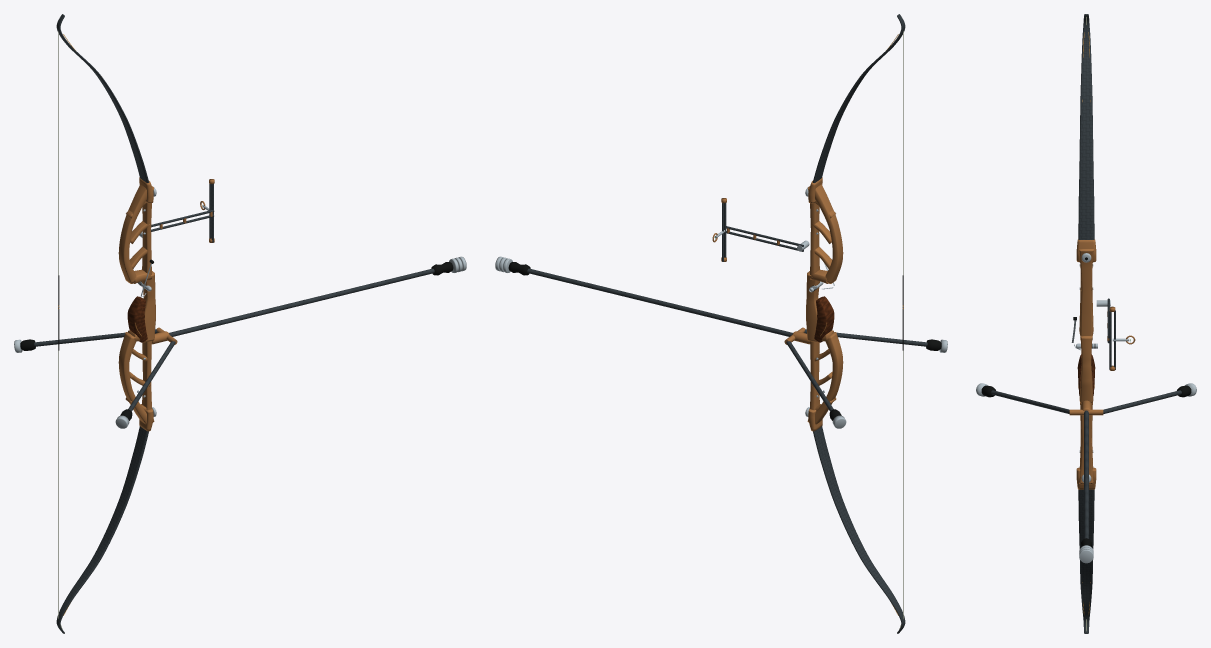
File: recurve.glb
3 renders of one model, left to right at view 1: azimuth 30°, elevation 25°; view 2: azimuth 150°, elevation 25°; view 3: azimuth 270°, elevation 25°, orthographic.
Parts seen in each view (by area): view 1: riser, stabilisers, limbs, sight, string, grip; view 2: riser, stabilisers, limbs, sight, string, grip; view 3: limbs, riser, stabilisers, hardware, sight.
Boxes of the visible parts, <box> form: riser: <box>118,184,155,424</box>; stabilisers: <box>14,256,466,428</box>; limbs: <box>56,14,149,633</box>; sight: <box>139,179,214,242</box>; string: <box>58,31,62,629</box>; grip: <box>127,296,147,342</box>; riser: <box>806,184,843,424</box>; stabilisers: <box>495,256,947,428</box>; limbs: <box>812,14,905,633</box>; sight: <box>712,198,809,261</box>; string: <box>899,31,903,629</box>; grip: <box>814,296,834,342</box>; limbs: <box>1078,14,1094,633</box>; riser: <box>1079,249,1093,484</box>; stabilisers: <box>976,383,1196,563</box>; hardware: <box>1076,239,1096,489</box>; sight: <box>1096,298,1135,370</box>.
Size of the model in its own units: 1.15 by 1.68 by 0.5424.
8 materials, 2 textured.
